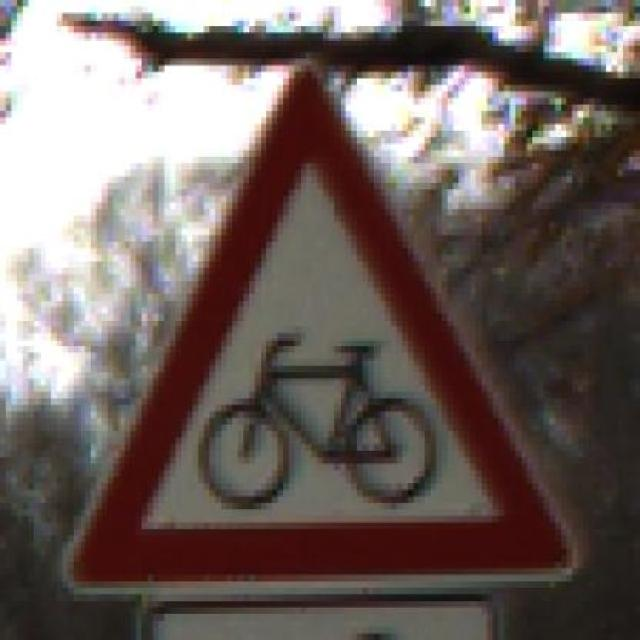CYCLE ROUTE AHEAD WARNING: (51, 46, 589, 594)
